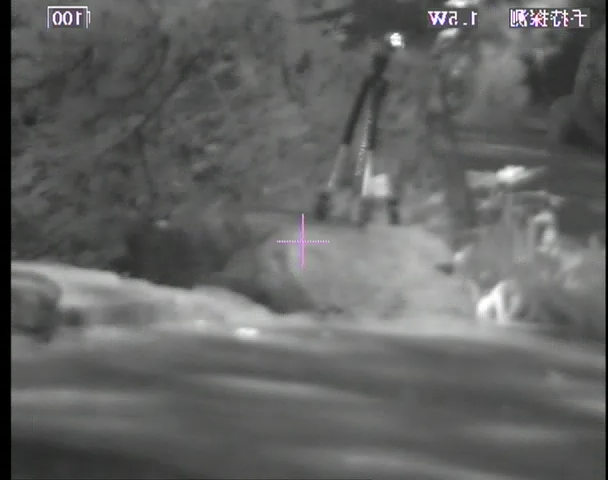my: (388, 32, 403, 48)
